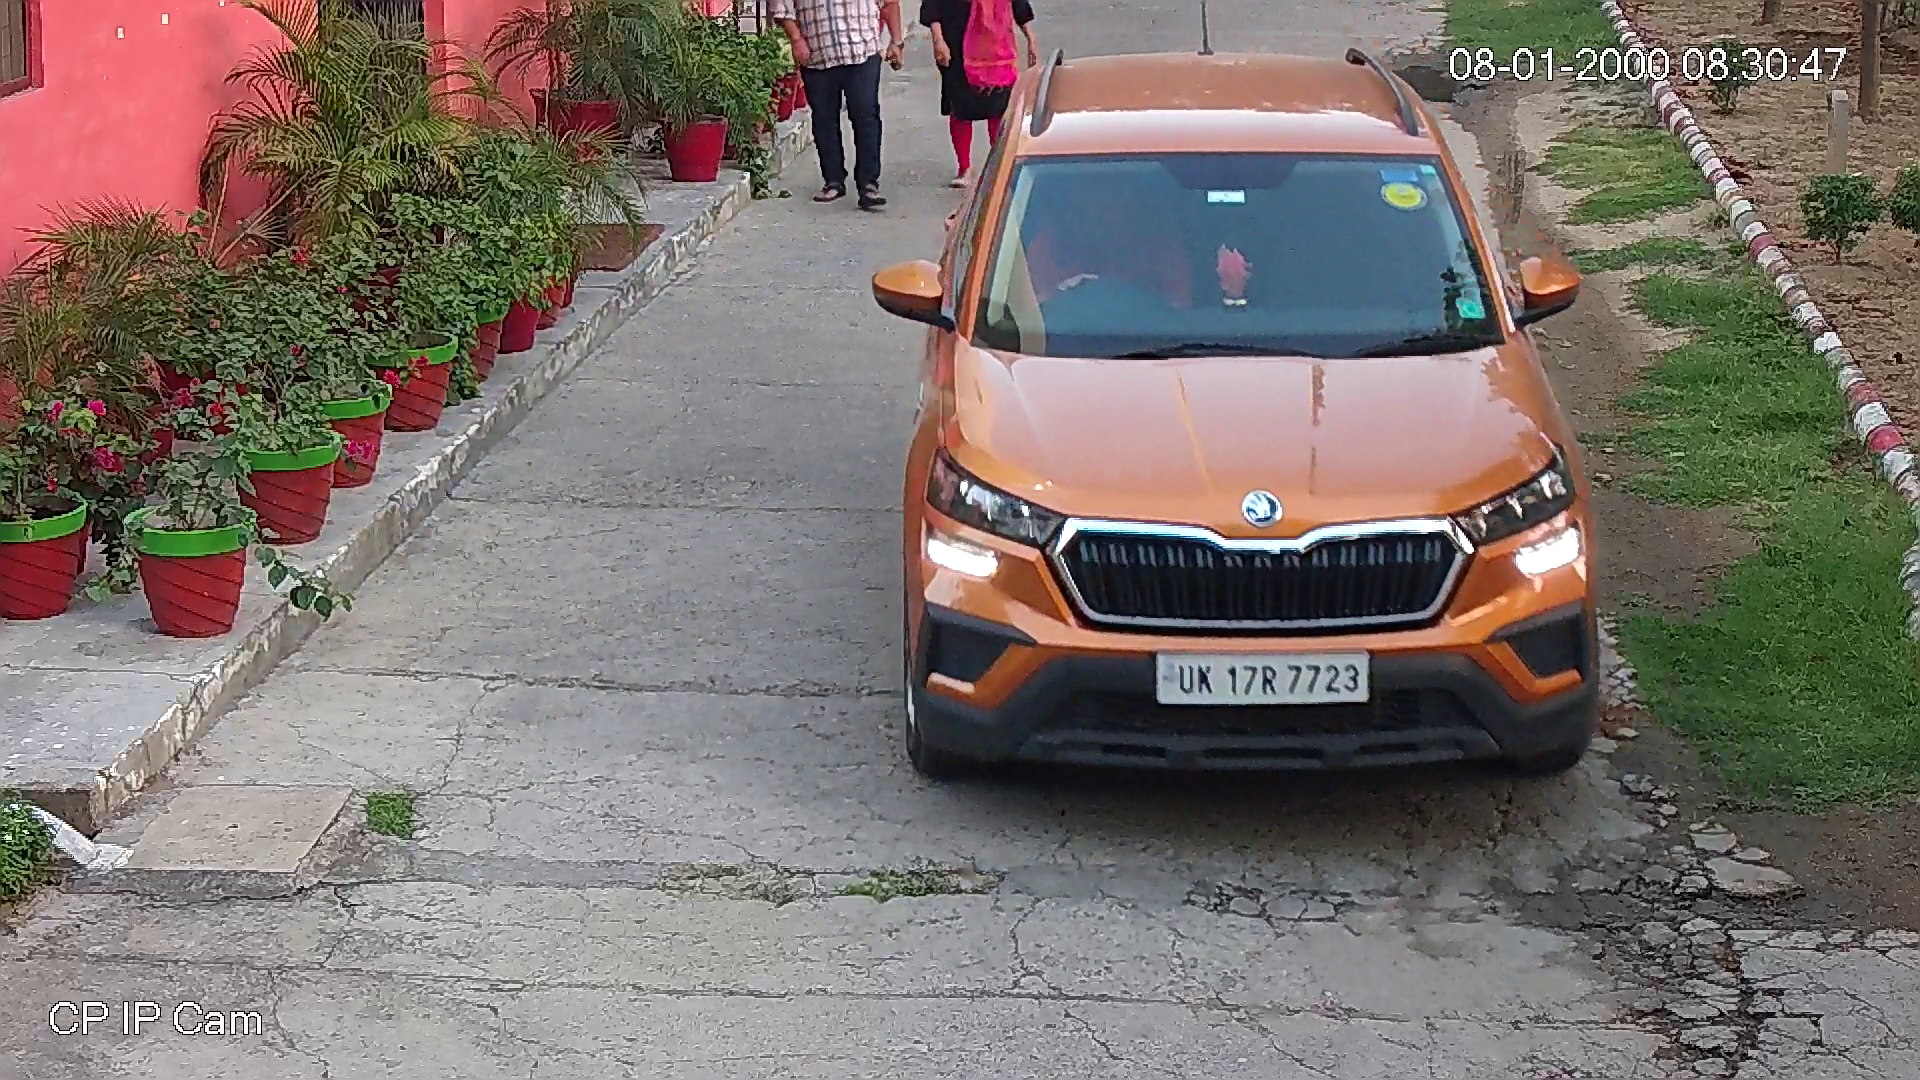plate: (1149, 642, 1384, 708)
